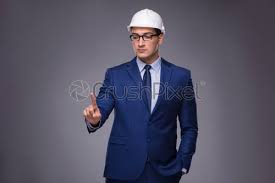Person_wearing_helmet: (124, 6, 170, 43)
